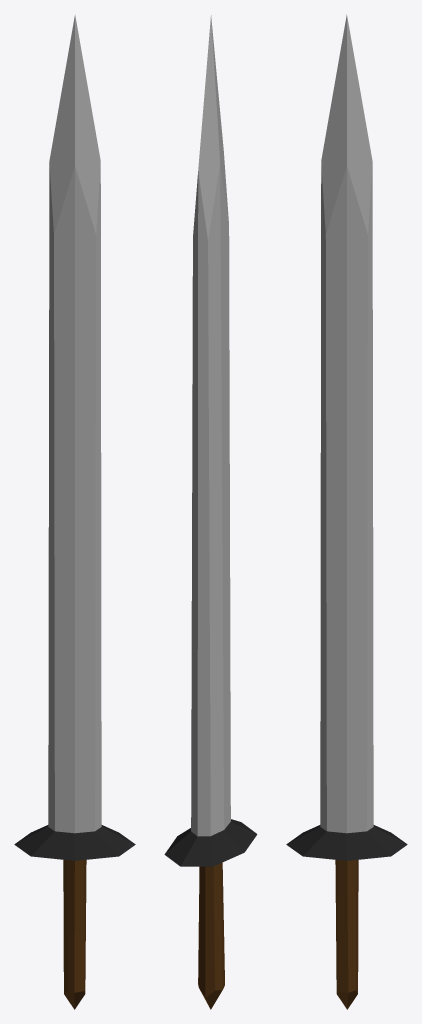
The model's file is pedang_anggar.fbx.
The picture shows the model from 3 angles, left to right: view 1: azimuth 90°, elevation 25°; view 2: azimuth 150°, elevation 25°; view 3: azimuth 270°, elevation 25°; orthographic projection.
Visible parts, largest first — view 1: Cube.001; view 2: Cube.001; view 3: Cube.001.
Part boxes in pixels (x1,y1,x2,y2): Cube.001: [14, 14, 135, 1009]; Cube.001: [164, 15, 257, 1009]; Cube.001: [286, 14, 407, 1009].
Size of the model in its own units: 13.4 by 189 by 20.98.
